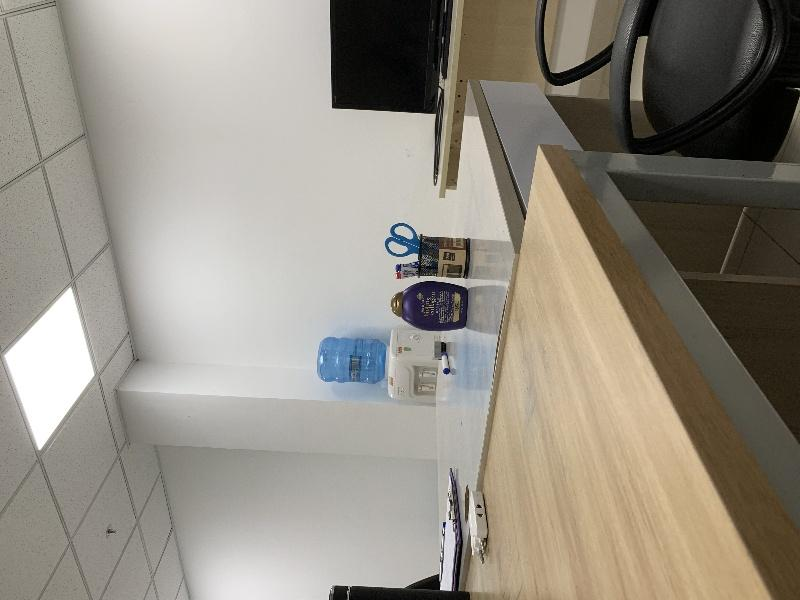BiotinCollagen_Shampoo: (391, 281, 468, 331)
